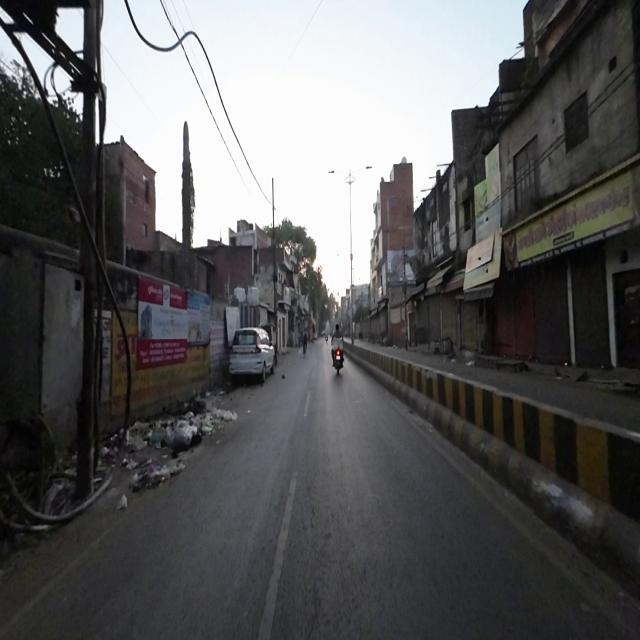Garbage: (130, 412, 203, 451), (129, 460, 186, 490), (208, 408, 236, 428)
